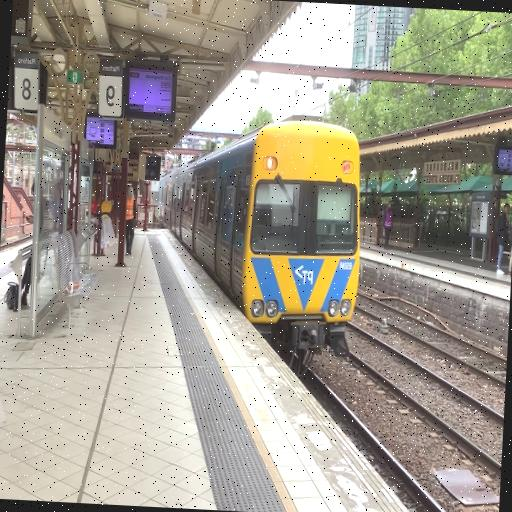platform_edge: (141, 226, 405, 512)
signage: (11, 58, 49, 337), (101, 56, 177, 126)
